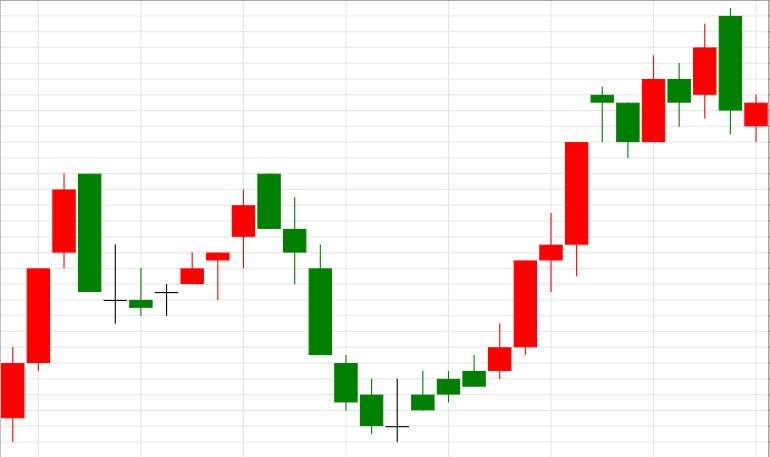bearish_engulfing_fall: (489, 8, 741, 378), (1, 173, 101, 442)
